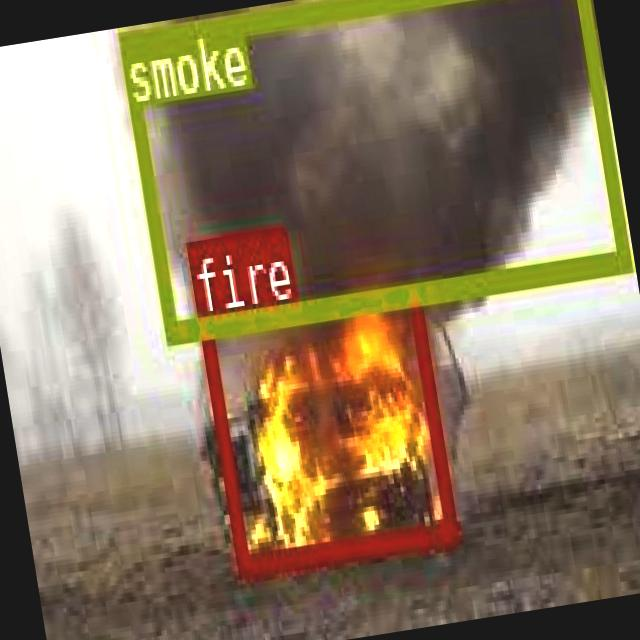fire: (196, 280, 456, 574)
smoke: (116, 0, 629, 338)
